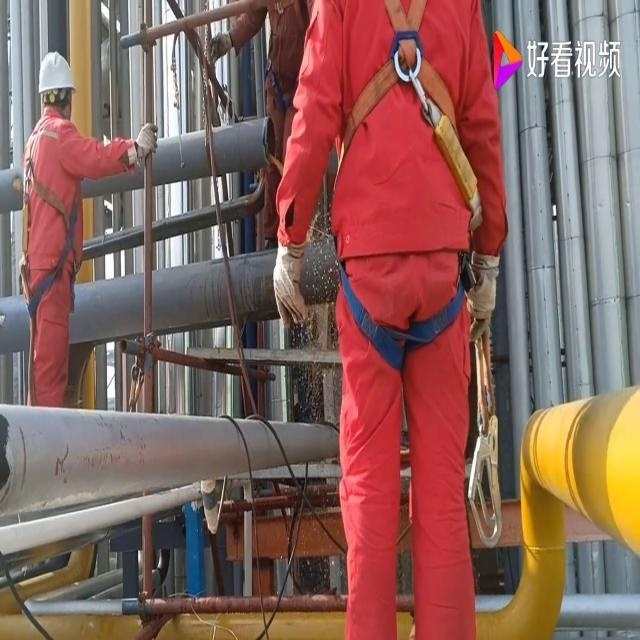Arnes_seguridad: (325, 0, 481, 363), (17, 102, 85, 324)
